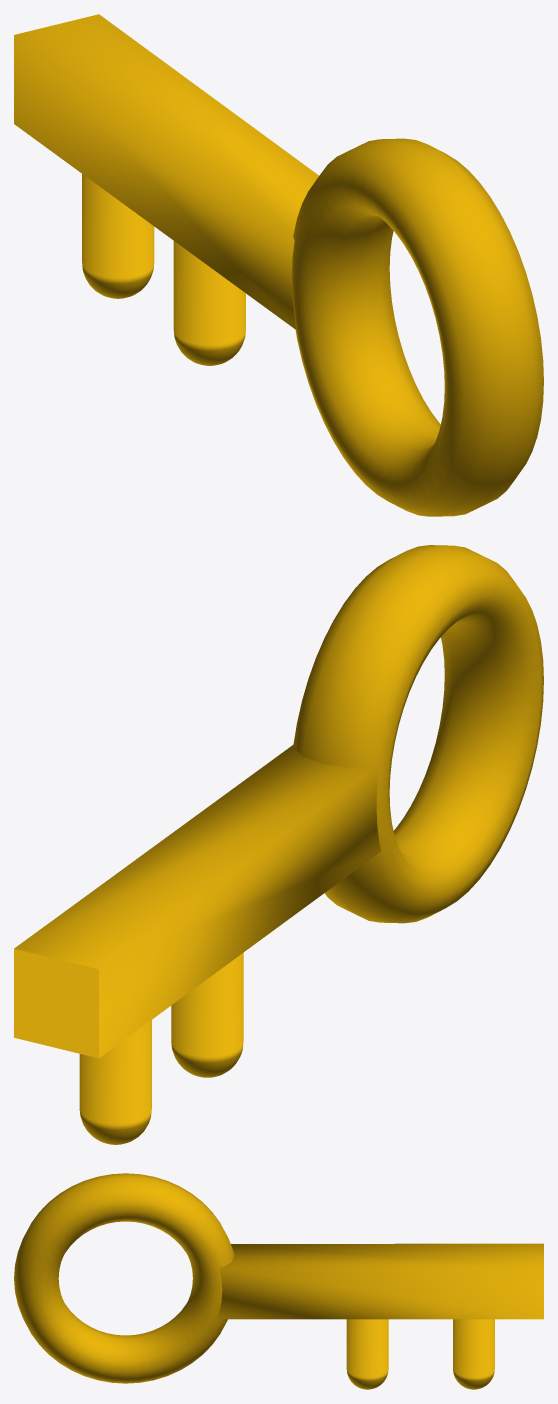
The model's file is keyfinal.fbx.
3 views of the same model, one above another, from view 1: azimuth 30°, elevation 25°; view 2: azimuth 150°, elevation 25°; view 3: azimuth 270°, elevation 25° (orthographic). The views are drawn at different scales.
Parts seen in each view (by area): view 1: Cube; view 2: Cube; view 3: Cube.
Boxes of the visible parts, box(x1,y1,x2,y2) form: Cube: box(14, 14, 543, 516); Cube: box(14, 545, 543, 1144); Cube: box(14, 1173, 543, 1389).
Size of the model in its own units: 52.26 by 196 by 448.
